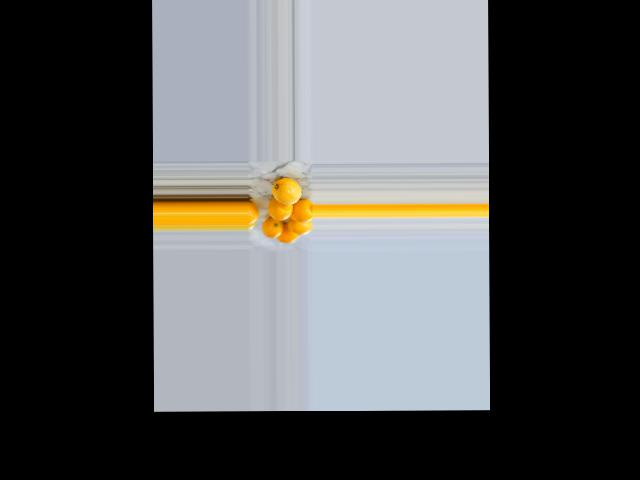lemon: (267, 177, 304, 206)
